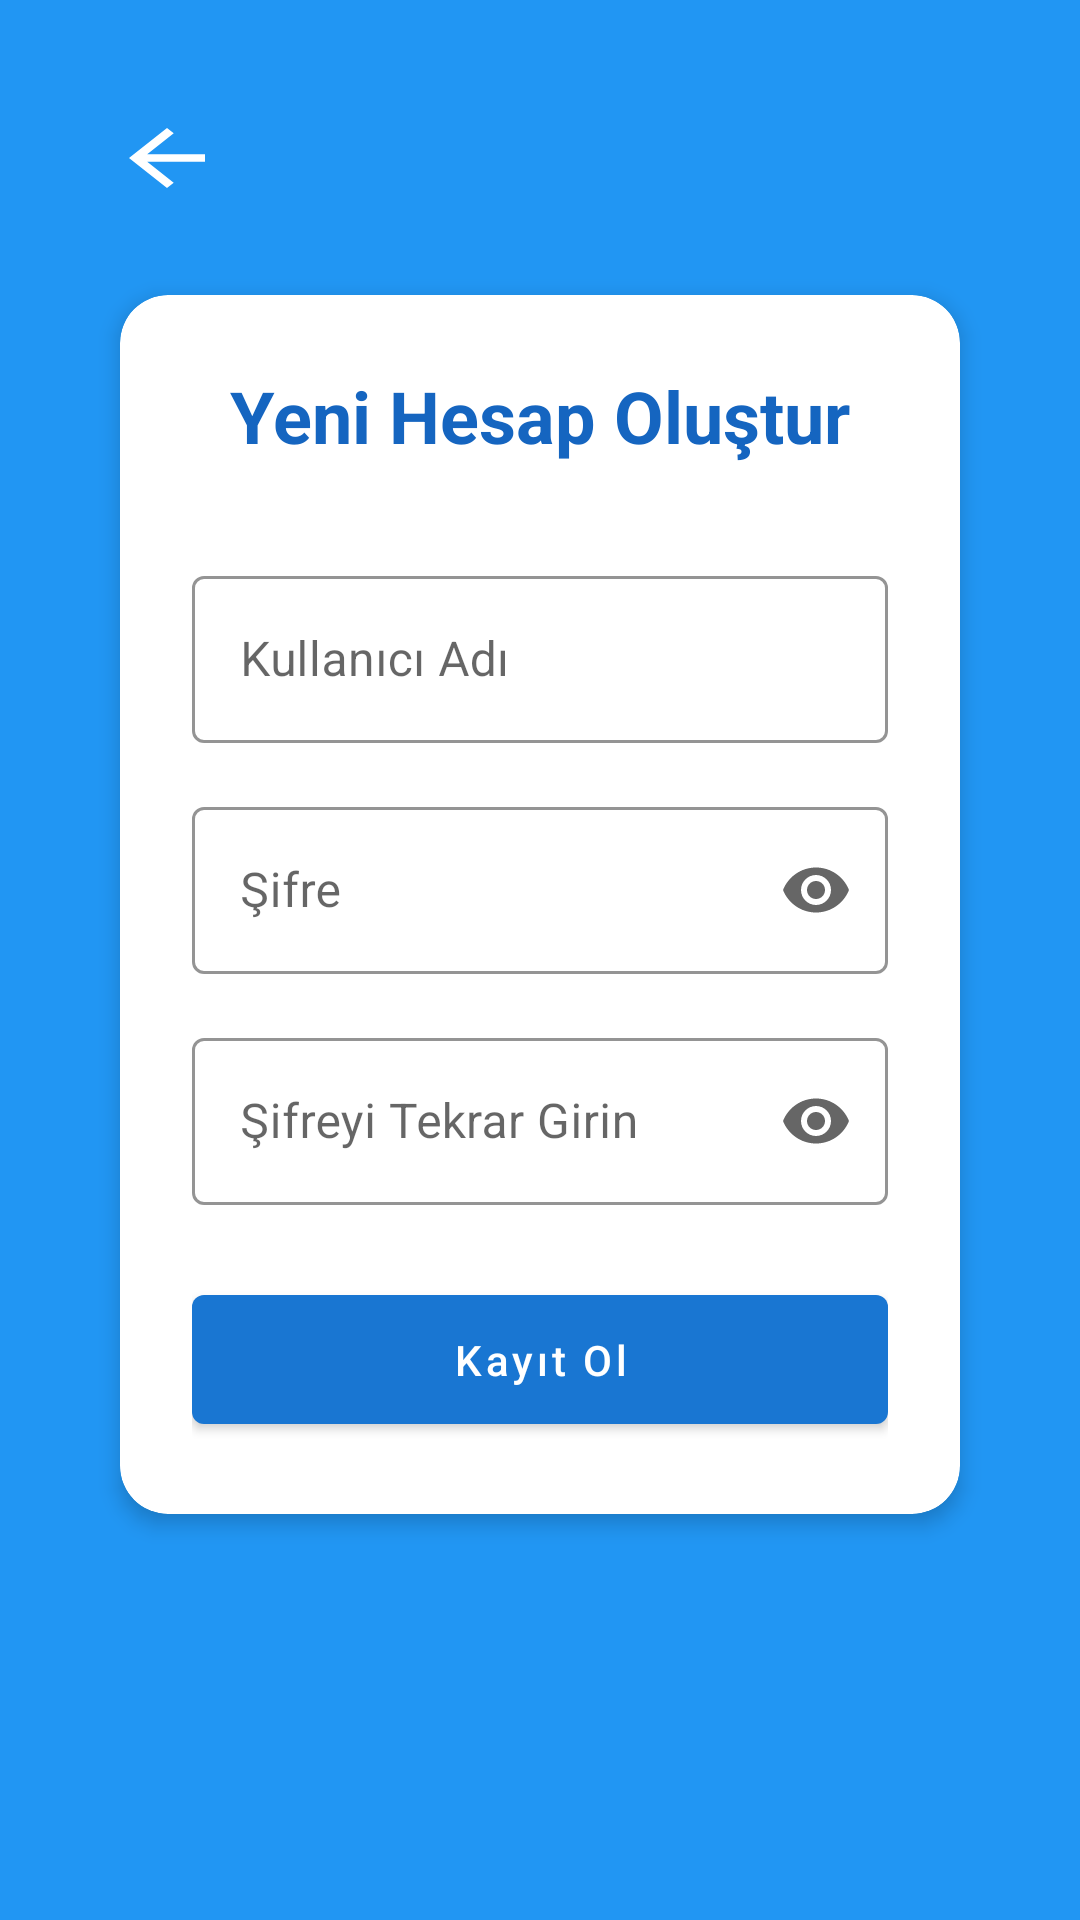

Screen size 1080x1920. Icon name, then its center in pixels as (x=x, y=y):
back: (x=167, y=158)
